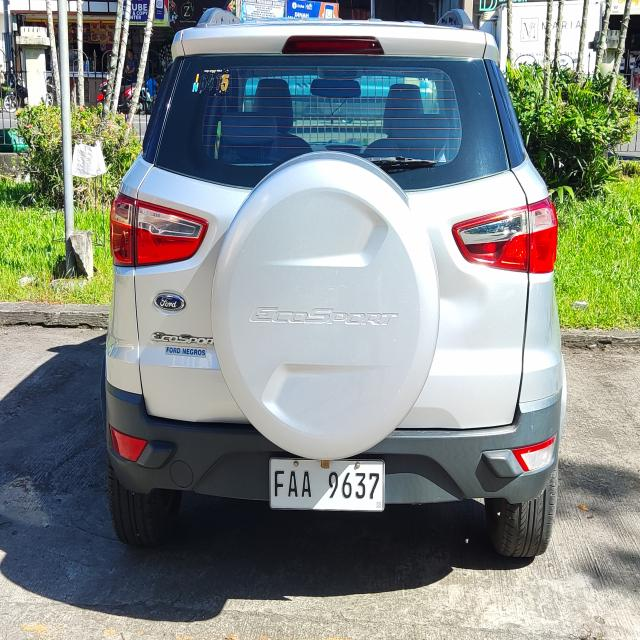plate: (266, 456, 388, 514)
